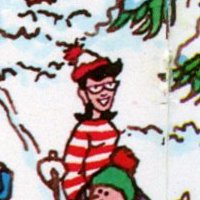wenda: (72, 48, 121, 124)
